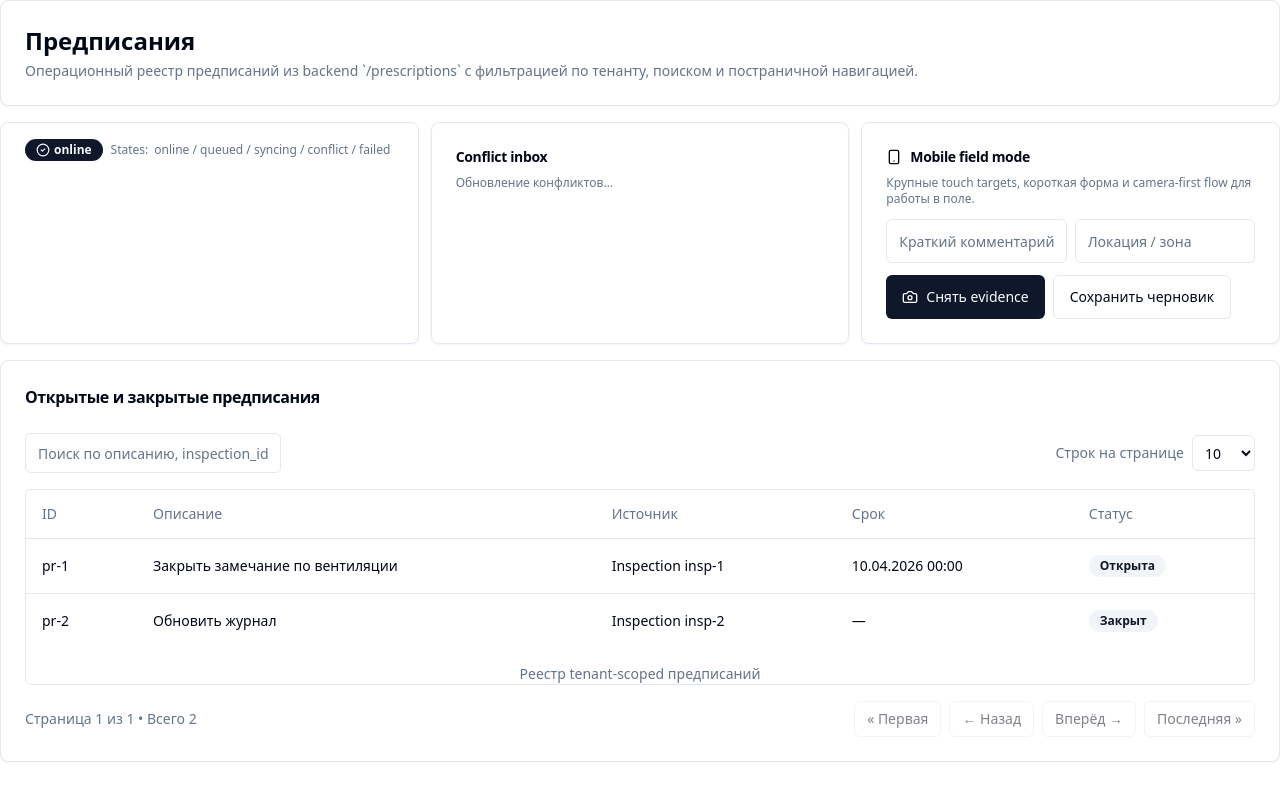
Test: operational pages converted from static to real data › filters prescriptions loaded from API
expect the text "Закрыть замечание по вентиляции" is shown: met, box [137, 538, 596, 593]
Type "вентиляции" into the field with placeholder "Поиск по описанию, inspection_id, incident_id" at coordinates (153, 453), box [25, 433, 281, 473]
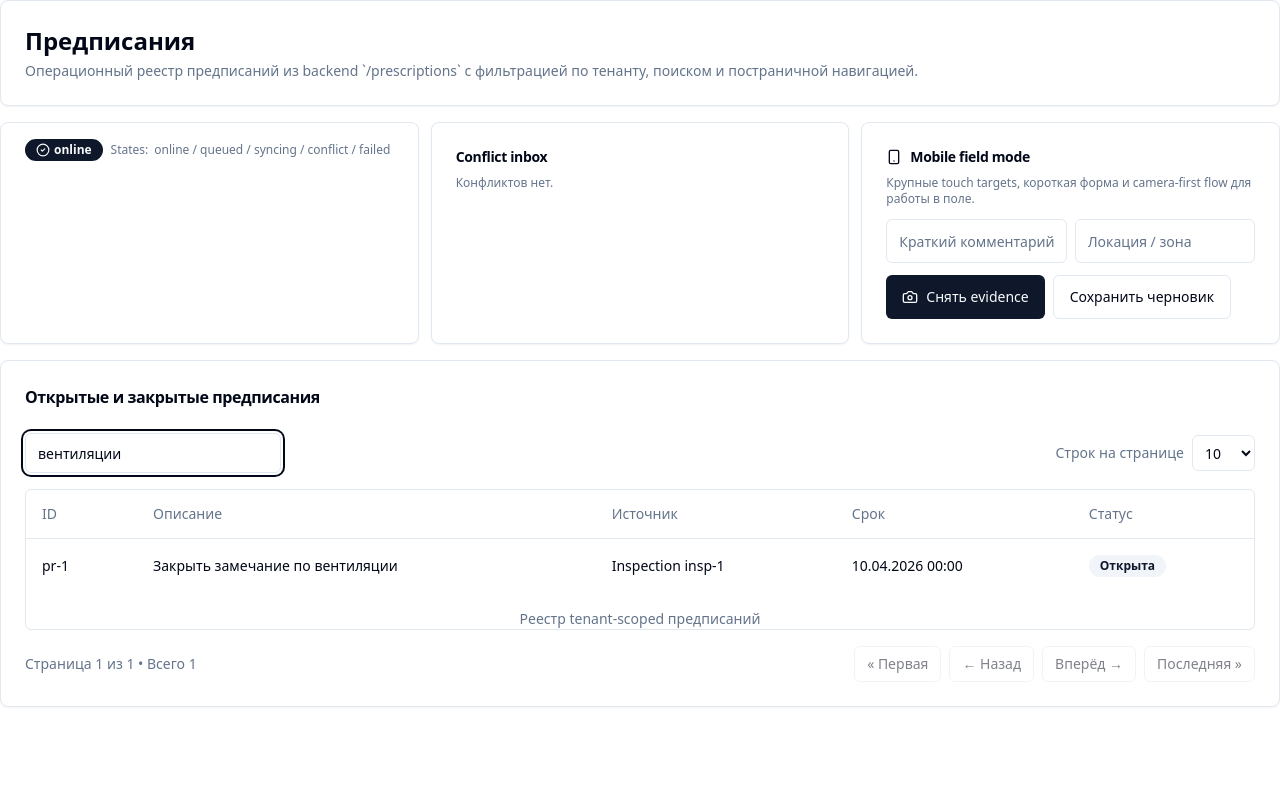
expect the text "Обновить журнал" is gone: met
